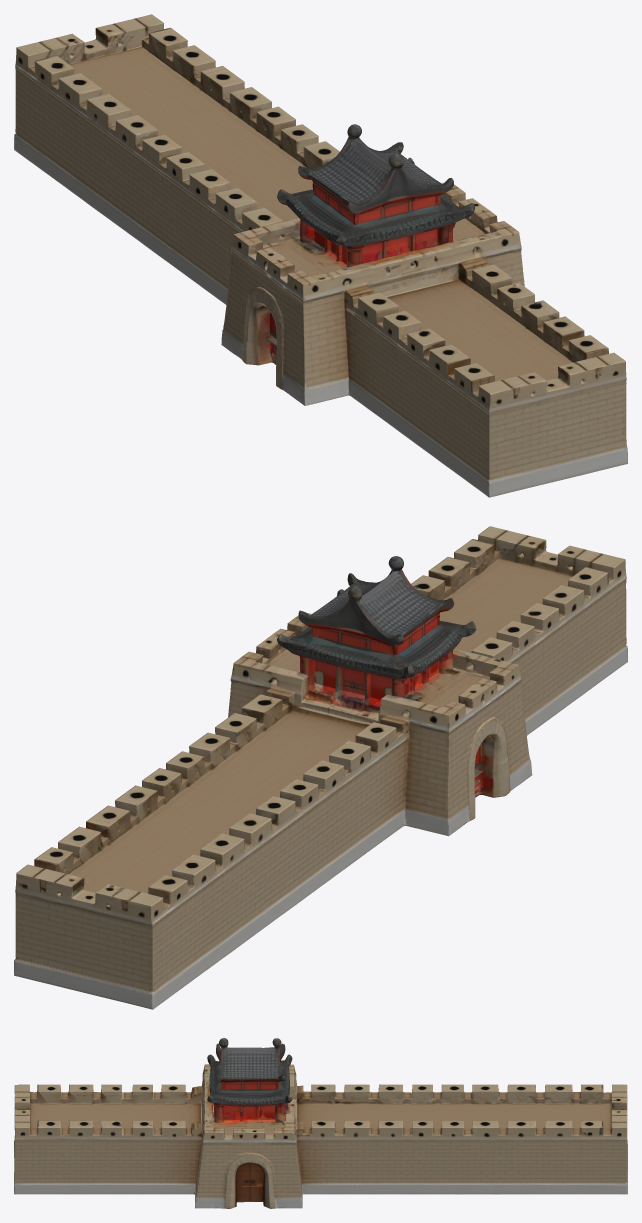
Rendered from wall-long.glb.
3 renders of one model, top to bottom at view 1: azimuth 30°, elevation 25°; view 2: azimuth 150°, elevation 25°; view 3: azimuth 270°, elevation 25°, orthographic. The views are drawn at different scales.
Visible parts, largest first — view 1: tripo_node_9b0071bb-d76b-4386-b230-63b64b64ac4f; view 2: tripo_node_9b0071bb-d76b-4386-b230-63b64b64ac4f; view 3: tripo_node_9b0071bb-d76b-4386-b230-63b64b64ac4f.
Part boxes in pixels (x1,y1,x2,y2): tripo_node_9b0071bb-d76b-4386-b230-63b64b64ac4f: (14, 14, 627, 497); tripo_node_9b0071bb-d76b-4386-b230-63b64b64ac4f: (14, 526, 627, 1009); tripo_node_9b0071bb-d76b-4386-b230-63b64b64ac4f: (14, 1038, 627, 1208).
Bounding box in the file's own units: 0.2794 × 0.2409 × 1.
1 material, 1 textured.
